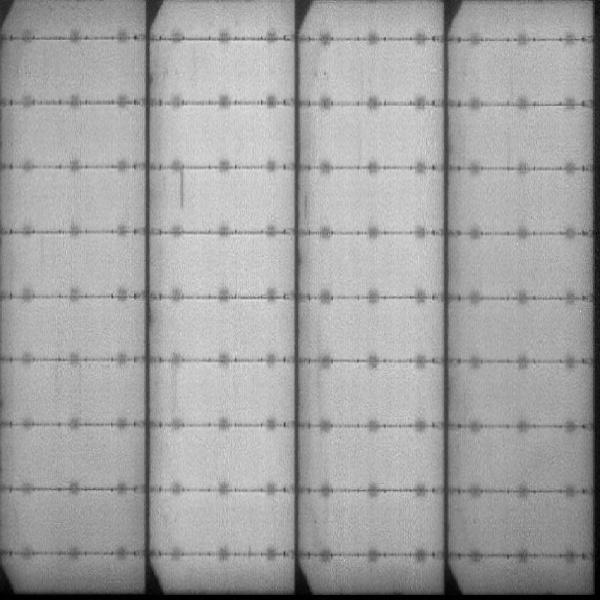scratch: (175, 162, 190, 213)
